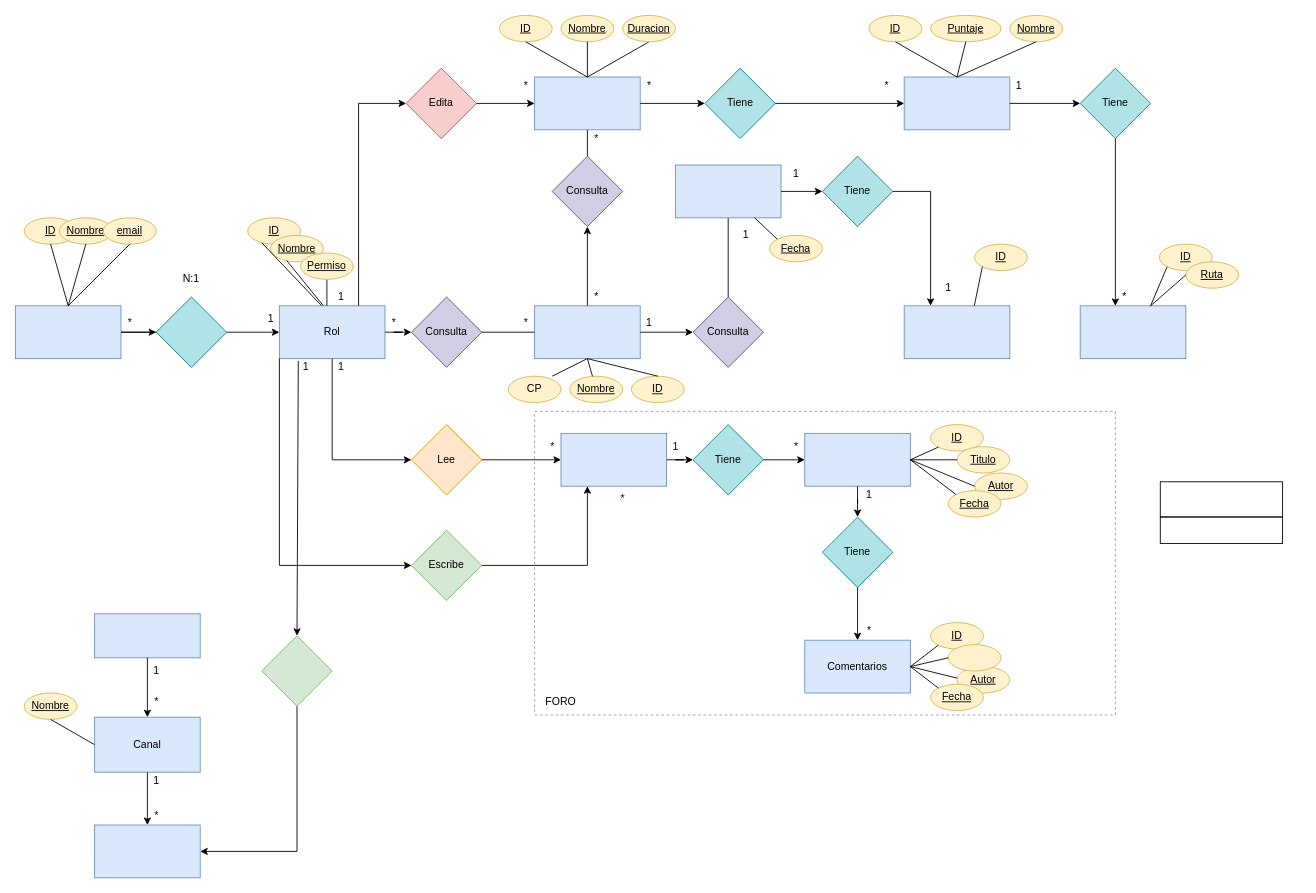
Some shapes in this 1316 by 893 pixel diagram are drawn without their labels. Here are the shapes that lost their labels. From the top down, the centre of each, then its label:
the point at 587,103: Recorrido turistico
the point at 956,103: Atraccion turistica
the point at 728,191: Clima
the point at 68,332: Actor
the point at 191,331: Tiene un
the point at 587,332: Localidad
the point at 956,332: Pronostico
the point at 1132,332: Fotos
the point at 613,459: Tema
the point at 857,459: Tópico
the point at 1221,499: DER GRUPO 1B VIAJAR360
the point at 147,635: Chat
the point at 296,670: Participa
the point at 974,657: Mensaje
the point at 147,851: mensajes
